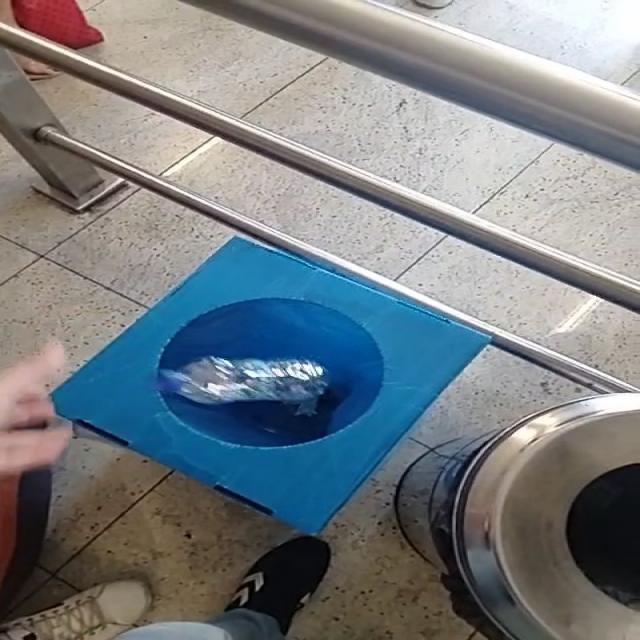plastic: (159, 356, 329, 416)
